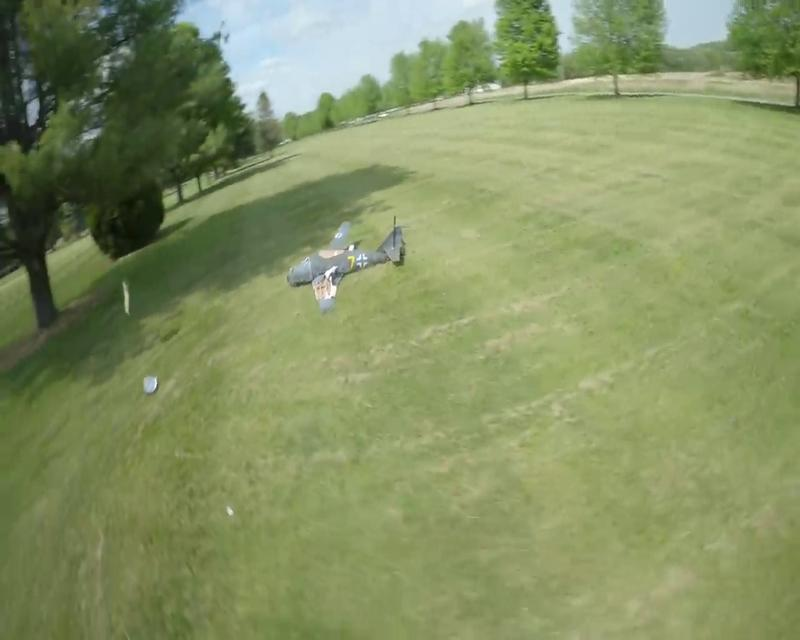UAV: (286, 222, 404, 317)
